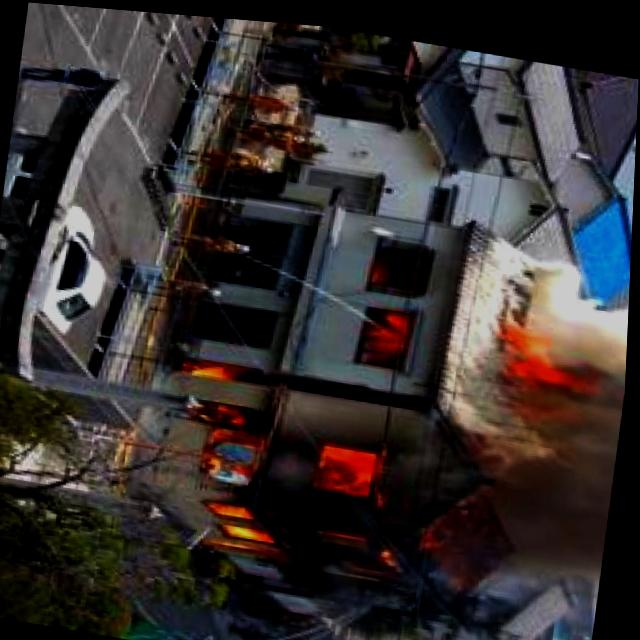helmet: (154, 352, 445, 590), (494, 293, 611, 401), (360, 244, 430, 364)
no_helmet: (425, 376, 625, 602)
